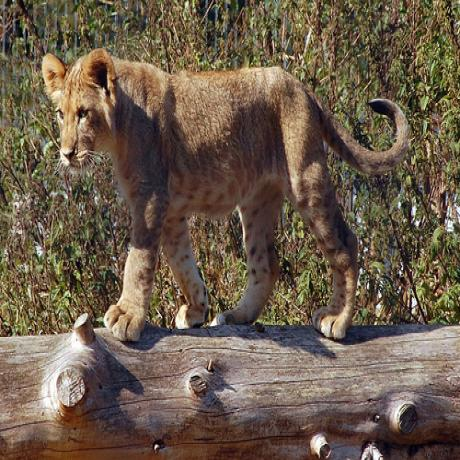Lion: (42, 47, 409, 340)
